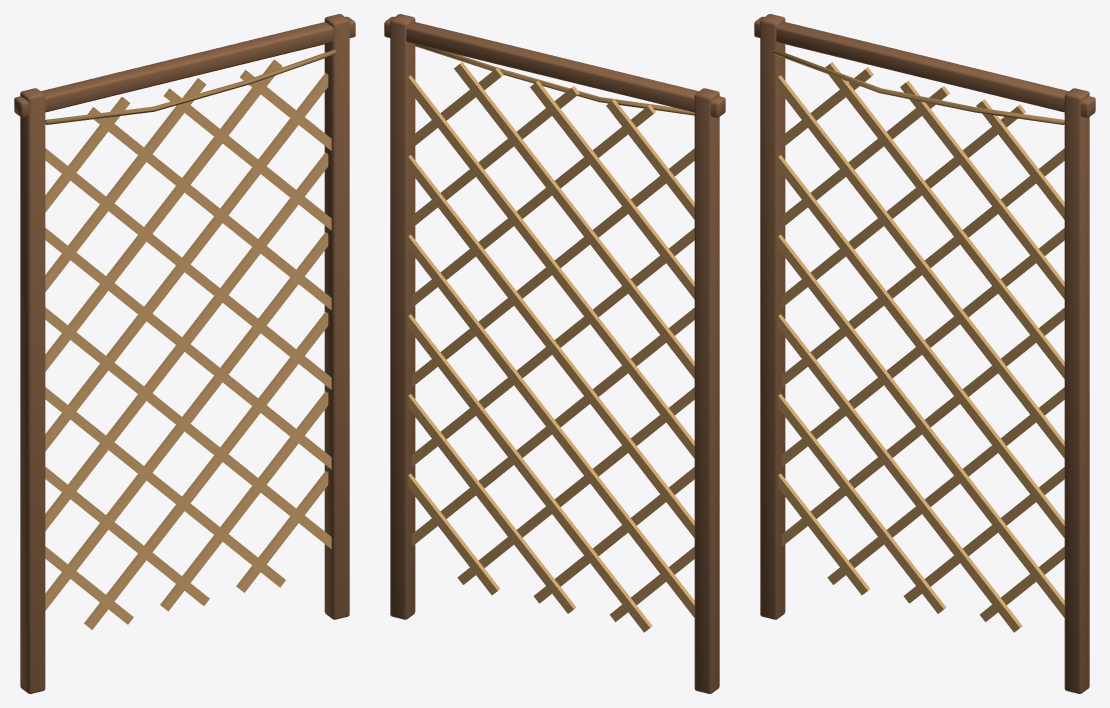
File: trellis.glb
The picture shows the model from 3 angles, left to right: view 1: azimuth 30°, elevation 25°; view 2: azimuth 150°, elevation 25°; view 3: azimuth 330°, elevation 25°; orthographic projection.
Visible parts, largest first — view 1: trellis; view 2: trellis; view 3: trellis.
Part boxes in pixels (bbox=[...]): trellis: bbox=[14, 14, 355, 693]; trellis: bbox=[384, 14, 725, 693]; trellis: bbox=[754, 14, 1095, 693].
Bounding box in the file's own units: 0.88 × 1.5 × 0.0585.
